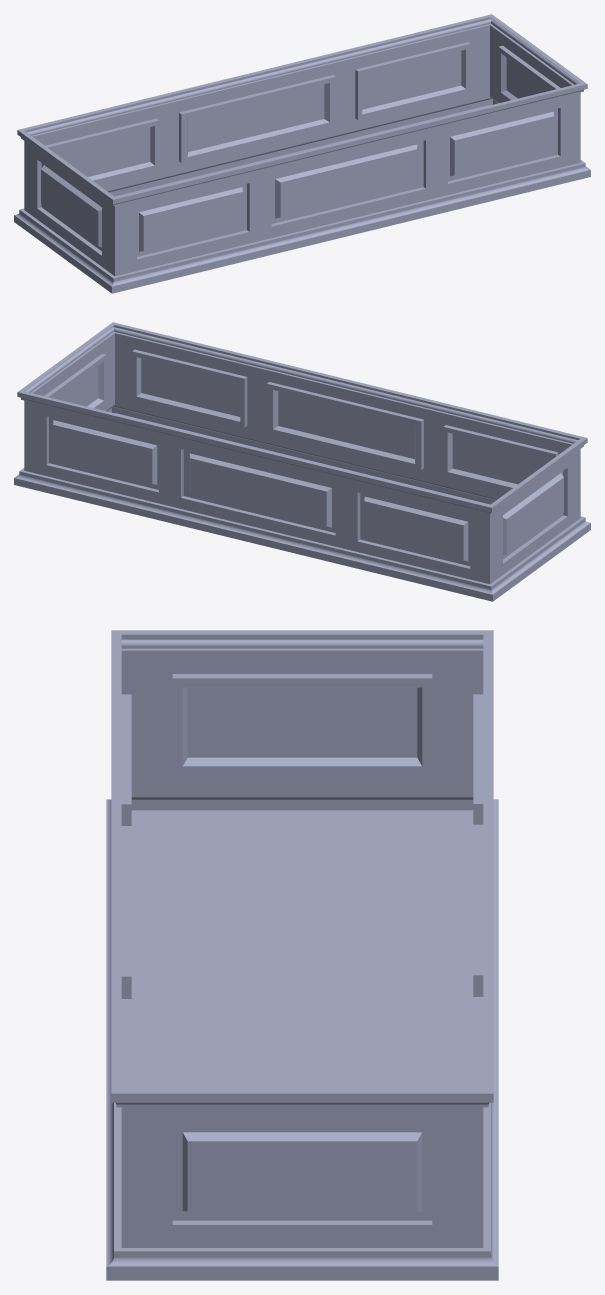
File: 42_openskp_material_77.obj
3 views of the same model, one above another, from view 1: azimuth 30°, elevation 25°; view 2: azimuth 150°, elevation 25°; view 3: azimuth 270°, elevation 25° (orthographic). The views are drawn at different scales.
Parts seen in each view (by area): view 1: 42_openskp_material_77; view 2: 42_openskp_material_77; view 3: 42_openskp_material_77.
Boxes of the visible parts, x1,y1,x2,y2 form: 42_openskp_material_77: [14, 14, 590, 293]; 42_openskp_material_77: [14, 322, 590, 601]; 42_openskp_material_77: [106, 630, 498, 1280].
Size of the model in its own units: 46.97 by 8.66 by 16.67.
